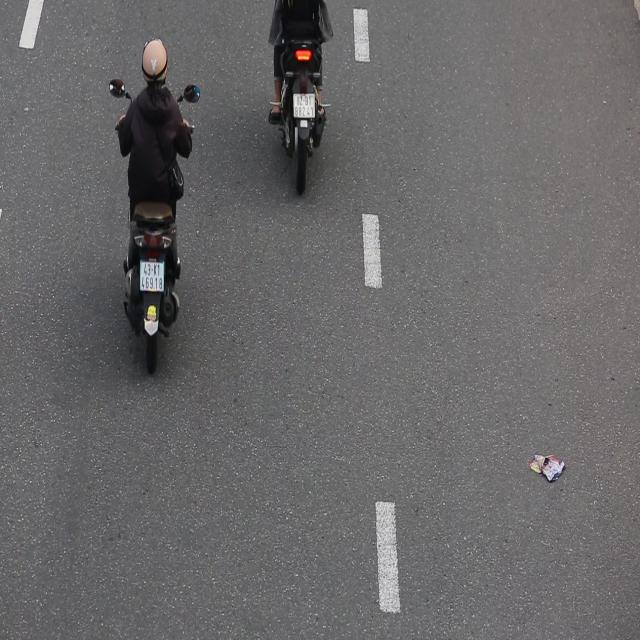motorbike: (107, 37, 201, 383)
